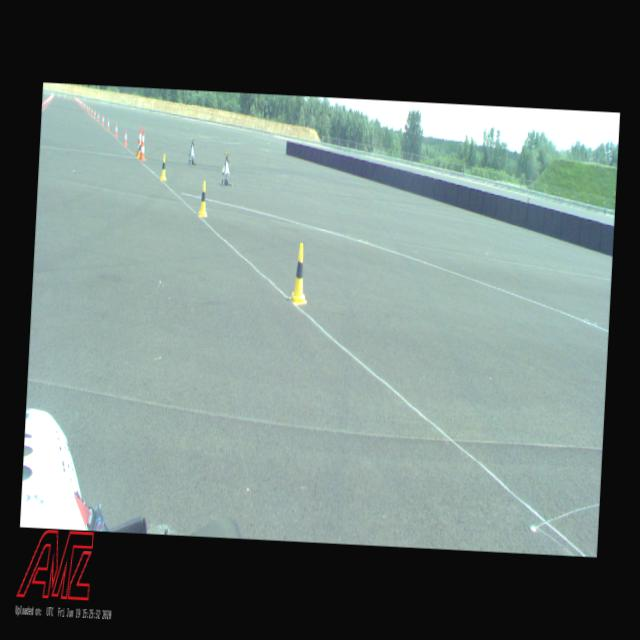large_orange_cone: (139, 128, 147, 160), (136, 127, 142, 157)
orange_cone: (124, 130, 128, 146), (114, 125, 118, 136), (102, 116, 105, 126), (107, 120, 110, 130), (97, 112, 100, 121), (94, 110, 96, 118), (91, 109, 93, 116), (88, 106, 90, 112)
yellow_cone: (290, 242, 310, 304), (198, 181, 208, 216), (160, 154, 168, 180), (137, 139, 141, 159)
